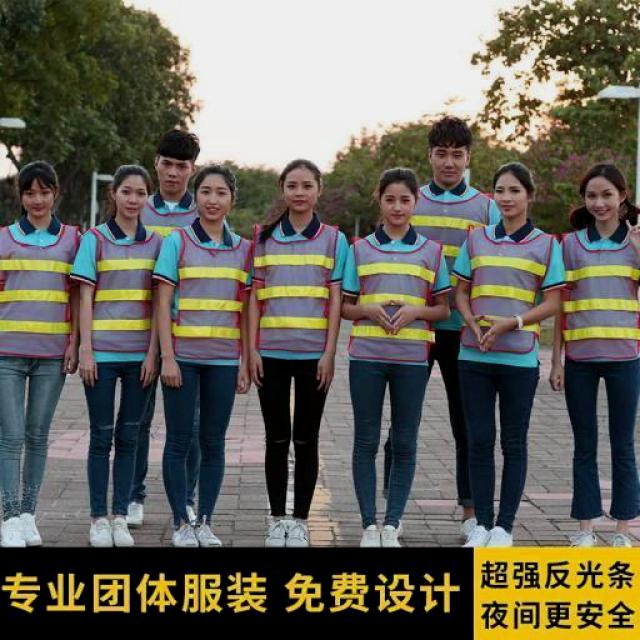face_nomask: (281, 178, 320, 214), (584, 183, 620, 218), (197, 184, 232, 220), (157, 156, 192, 192), (114, 184, 150, 217), (494, 180, 526, 216), (434, 147, 466, 182), (22, 186, 57, 218), (382, 192, 413, 224)
hand_noglove: (74, 348, 106, 391), (364, 296, 396, 336), (479, 310, 508, 354), (134, 344, 160, 390), (314, 351, 340, 395), (158, 351, 187, 390), (390, 298, 416, 338), (57, 338, 82, 378), (543, 357, 568, 395), (468, 309, 488, 352), (247, 350, 268, 389)
head_nohelmet: (427, 112, 472, 149), (153, 129, 199, 165), (489, 158, 537, 188), (580, 160, 628, 190), (15, 160, 61, 190), (276, 157, 326, 183), (372, 167, 423, 191), (106, 162, 150, 186), (194, 165, 238, 189)
person: (452, 158, 558, 546), (341, 164, 447, 547), (74, 160, 170, 546), (0, 157, 93, 552), (251, 156, 343, 548), (161, 164, 251, 546), (564, 164, 638, 546)
shoes: (13, 510, 47, 546), (84, 510, 114, 545), (110, 512, 139, 548), (0, 510, 28, 546), (286, 512, 314, 547), (258, 518, 290, 548), (353, 522, 388, 549), (196, 518, 227, 548), (168, 522, 203, 548), (460, 523, 490, 549), (378, 519, 404, 547), (488, 524, 518, 546)
vest: (453, 225, 558, 356), (350, 229, 442, 367), (251, 221, 344, 355), (2, 220, 88, 364), (78, 222, 168, 358), (169, 224, 251, 362), (560, 226, 639, 362), (409, 188, 493, 283)
